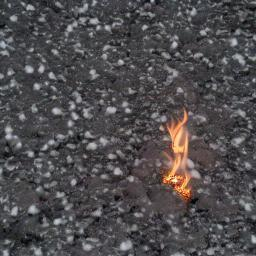Small fire: (150, 98, 203, 221)
